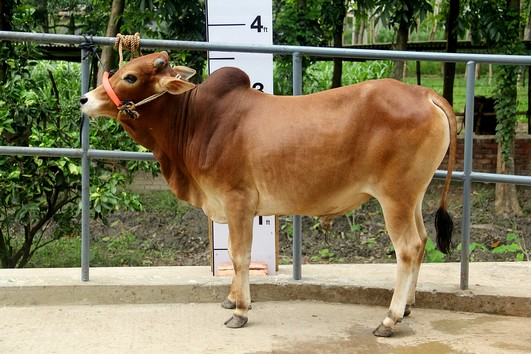cow: (73, 40, 465, 338)
